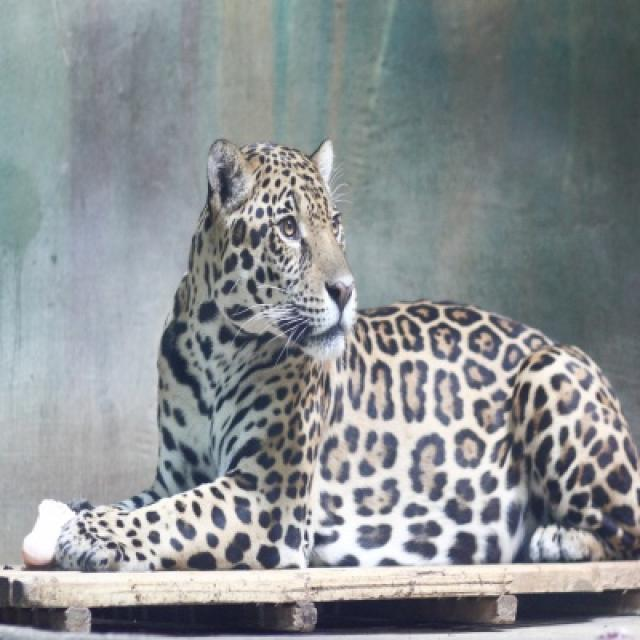Jaguar: (22, 139, 638, 576)
